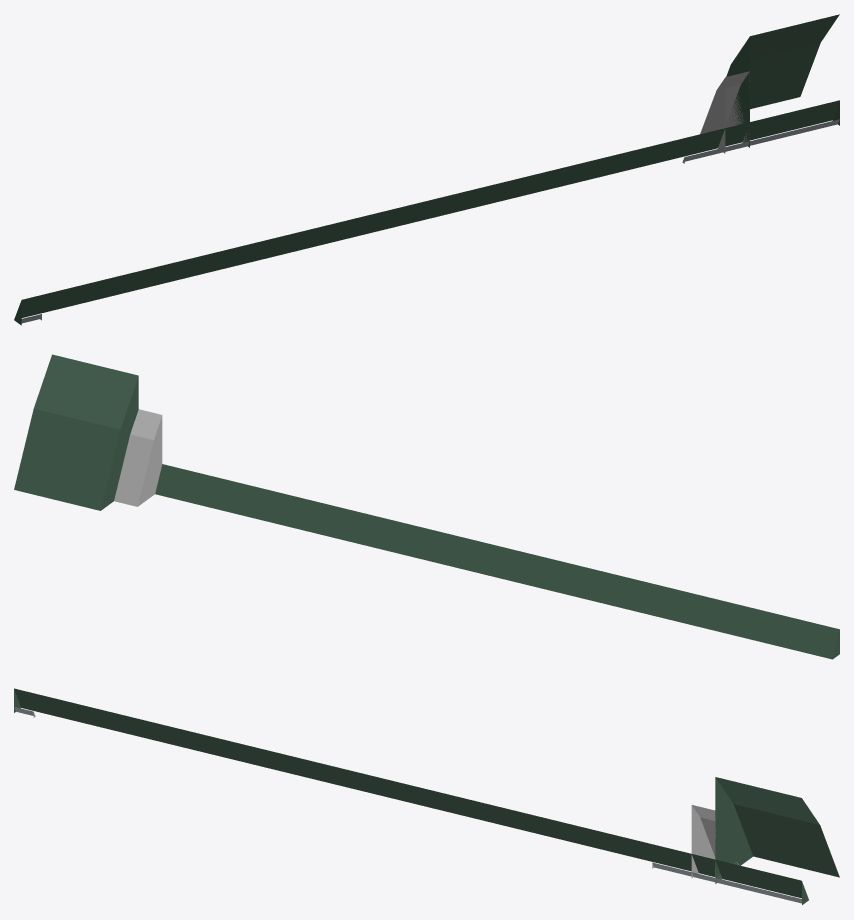
The model's file is cell_58.obj.
The picture shows the model from 3 angles, top to bottom: view 1: azimuth 30°, elevation 25°; view 2: azimuth 150°, elevation 25°; view 3: azimuth 330°, elevation 25°; orthographic projection. The views are drawn at different scales.
Size of the model in its own units: 1 by 0.1304 by 0.0838.
